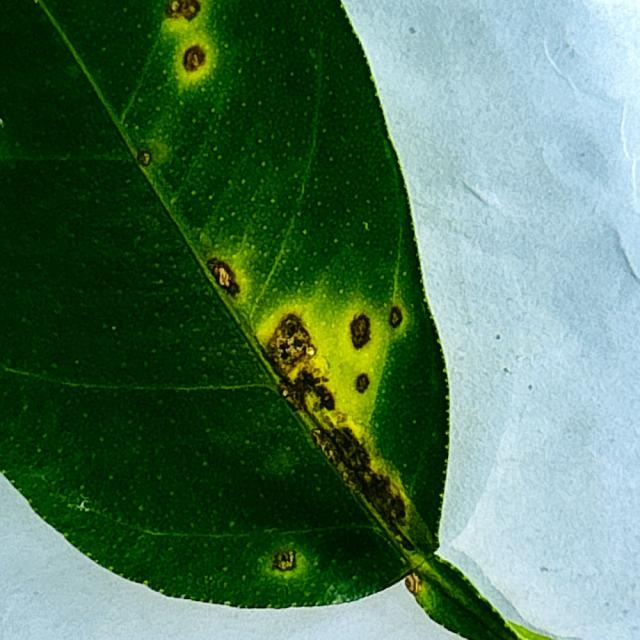Anthracnose: (329, 430, 417, 542), (258, 323, 339, 412), (190, 240, 256, 308), (174, 36, 222, 86), (380, 295, 411, 343), (348, 366, 385, 402)
Lemon: (0, 0, 639, 639)
